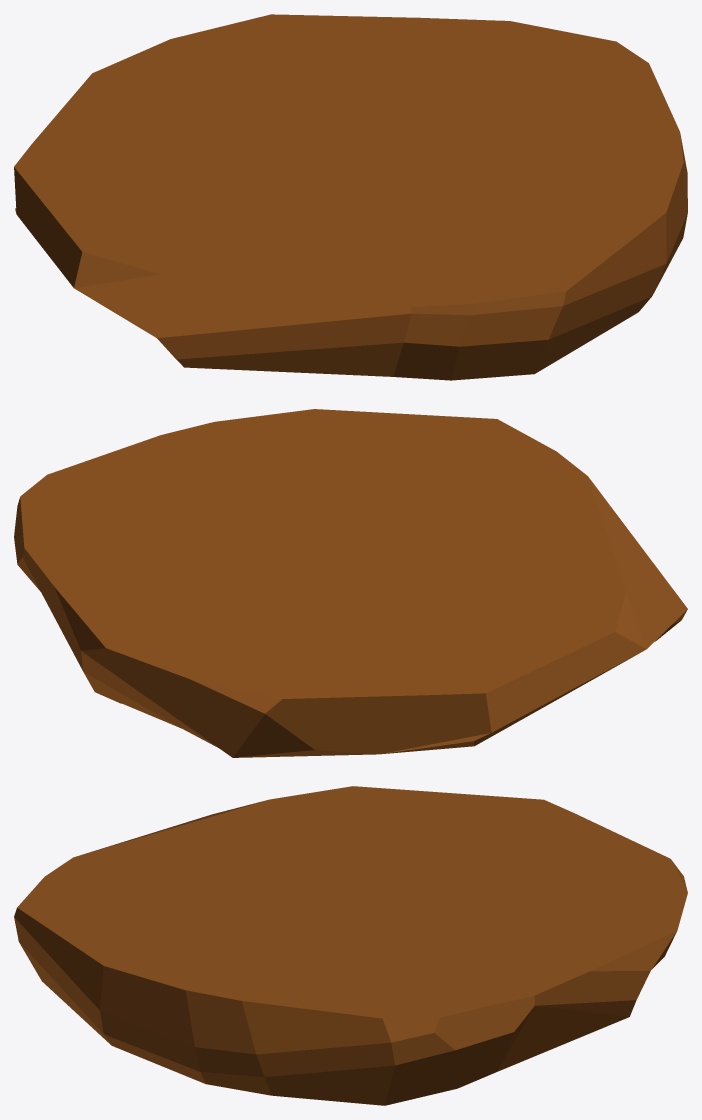
The model's file is HardRock_54.fbx.
3 renders of one model, top to bottom at view 1: azimuth 30°, elevation 25°; view 2: azimuth 150°, elevation 25°; view 3: azimuth 270°, elevation 25°, orthographic. The views are drawn at different scales.
Parts seen in each view (by area): view 1: HardRock_54; view 2: HardRock_54; view 3: HardRock_54.
Part boxes in pixels (x1,y1,x2,y2): HardRock_54: [14, 14, 687, 380]; HardRock_54: [14, 409, 687, 757]; HardRock_54: [14, 786, 687, 1105].
Bounding box in the file's own units: 203 × 33.08 × 206.
